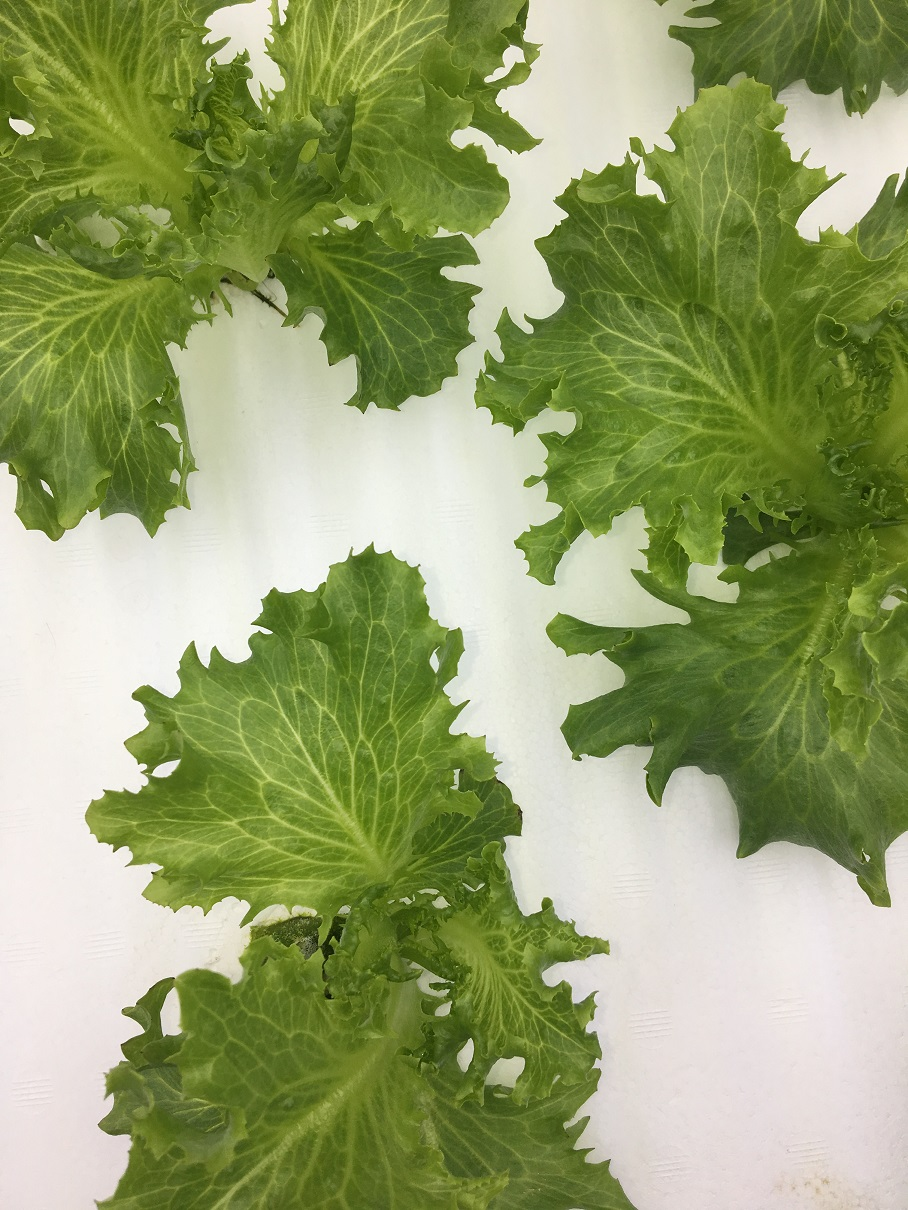tipburn: (513, 802, 533, 825), (490, 776, 508, 796), (323, 358, 340, 374)
